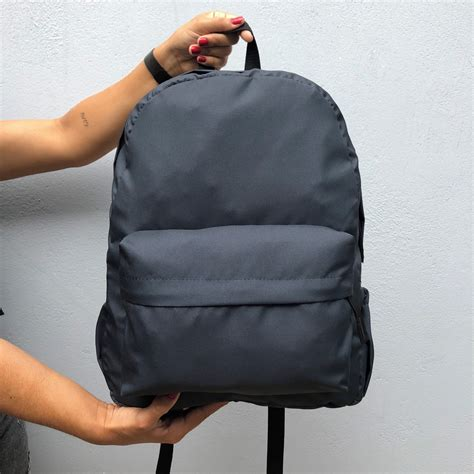nylon: (95, 67, 375, 411)
